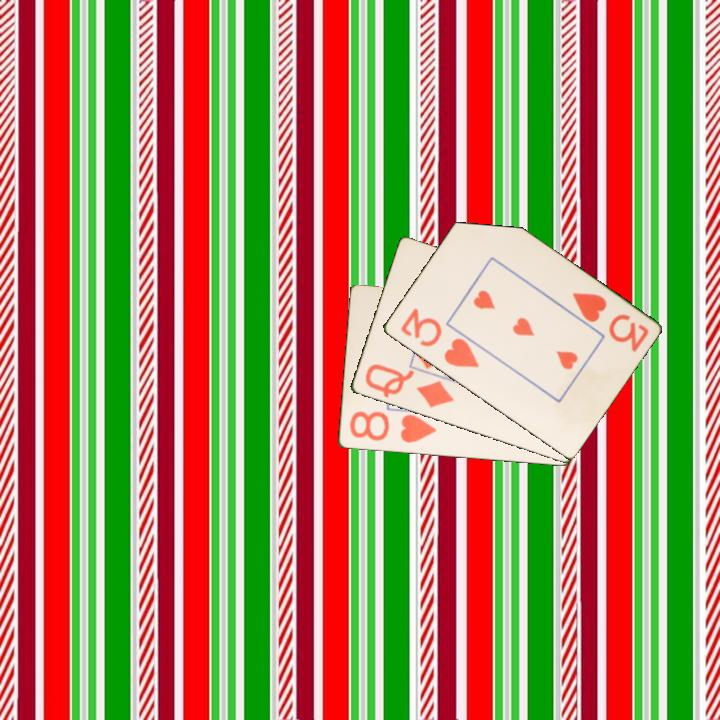3h: (396, 304, 482, 371), (568, 289, 652, 355)
8h: (345, 408, 439, 446)
Qd: (361, 360, 457, 411)
